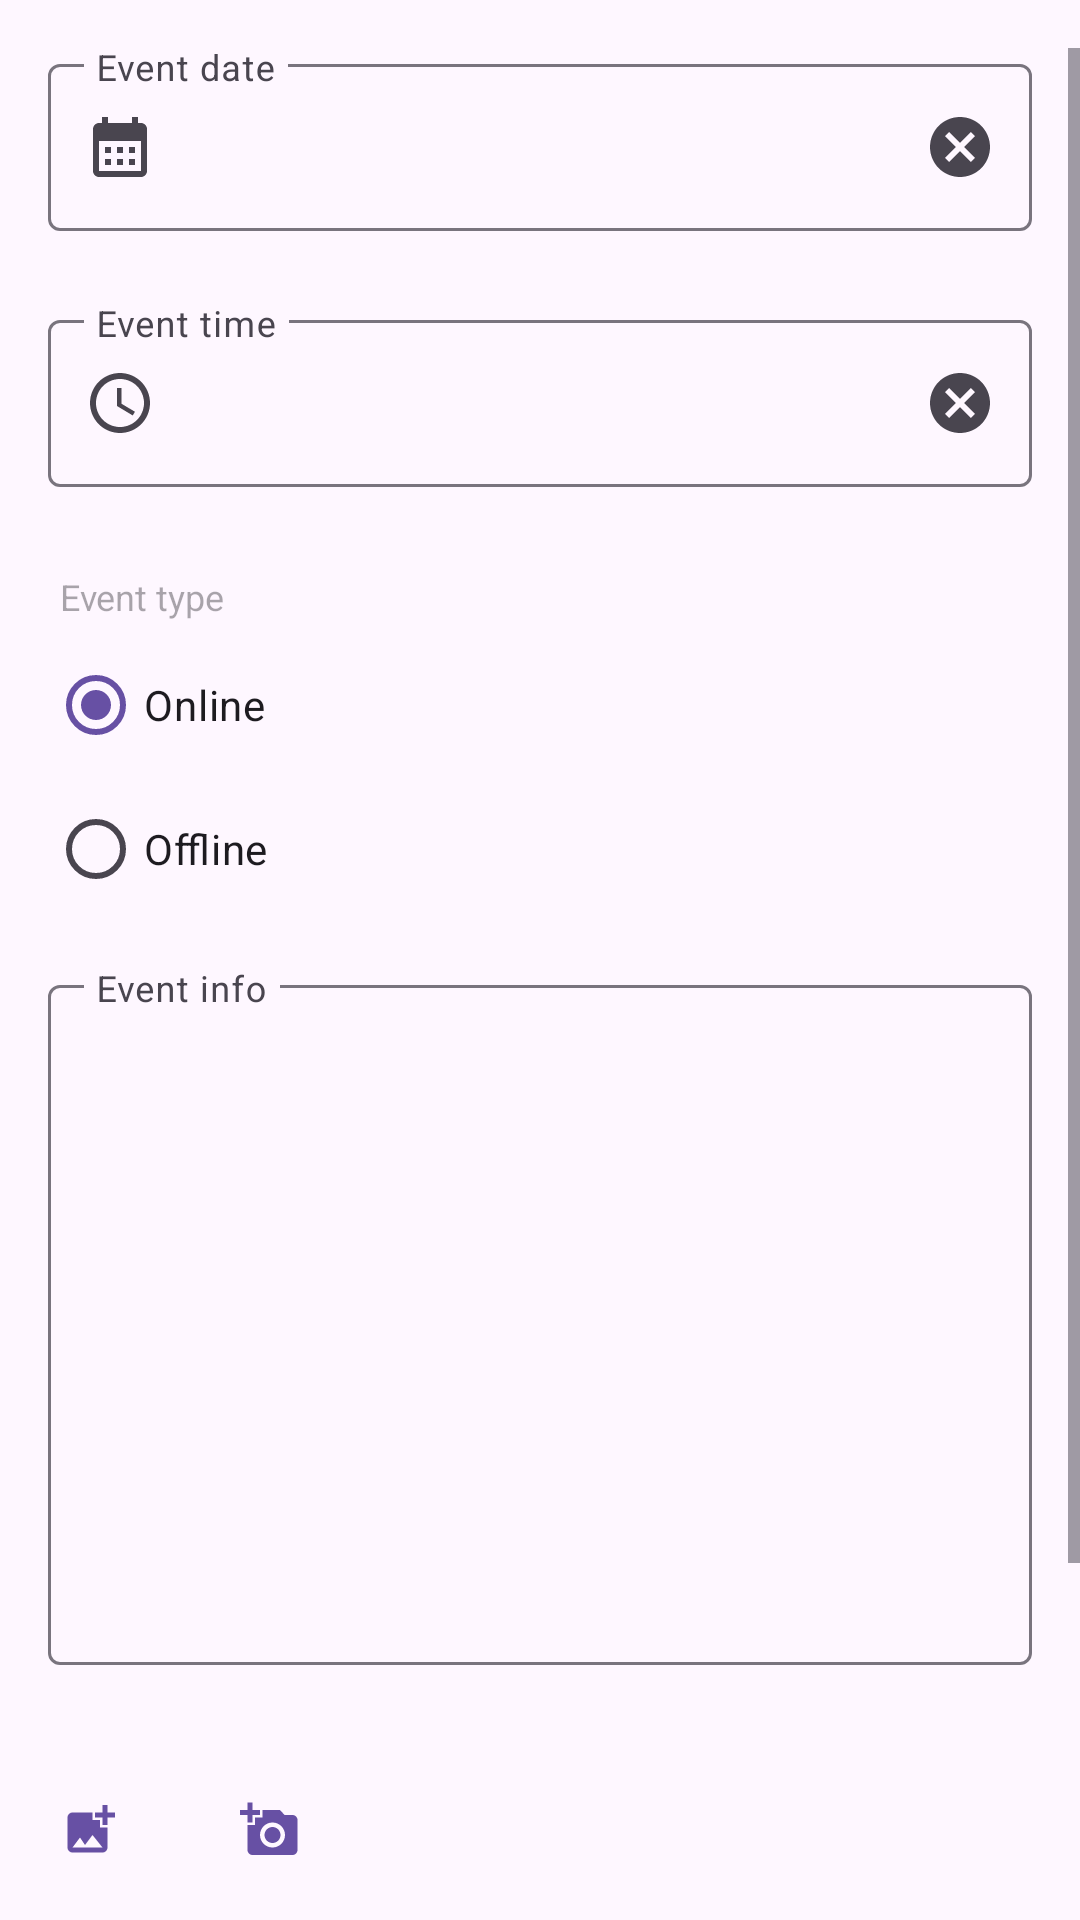

Icons on this 1080*1920 Android screen, each with the point to tap as (x=x, y=y):
Make photo: (x=269, y=1828)
Select photo: (x=91, y=1829)
